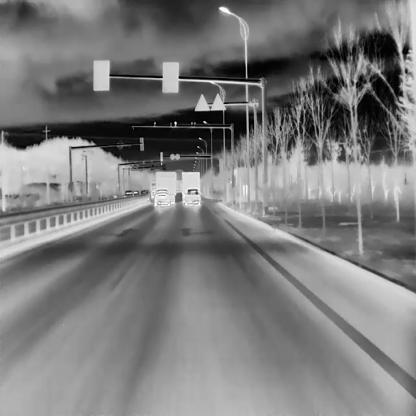car: (154, 188, 170, 206), (184, 188, 200, 204), (123, 190, 134, 198), (140, 189, 150, 195), (133, 189, 139, 195)
truck: (156, 172, 174, 203), (182, 172, 199, 202), (150, 180, 155, 198)
